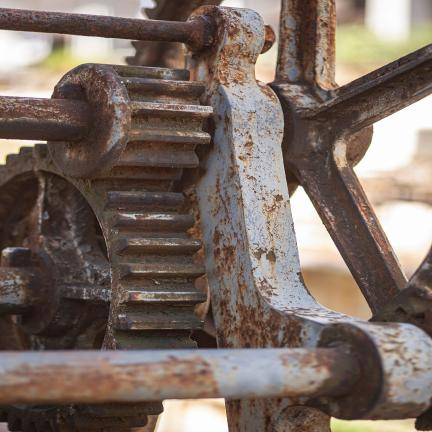besi_tidak_karat: (354, 94, 432, 283), (289, 185, 373, 320), (334, 1, 430, 85)
karat: (0, 5, 368, 400)
